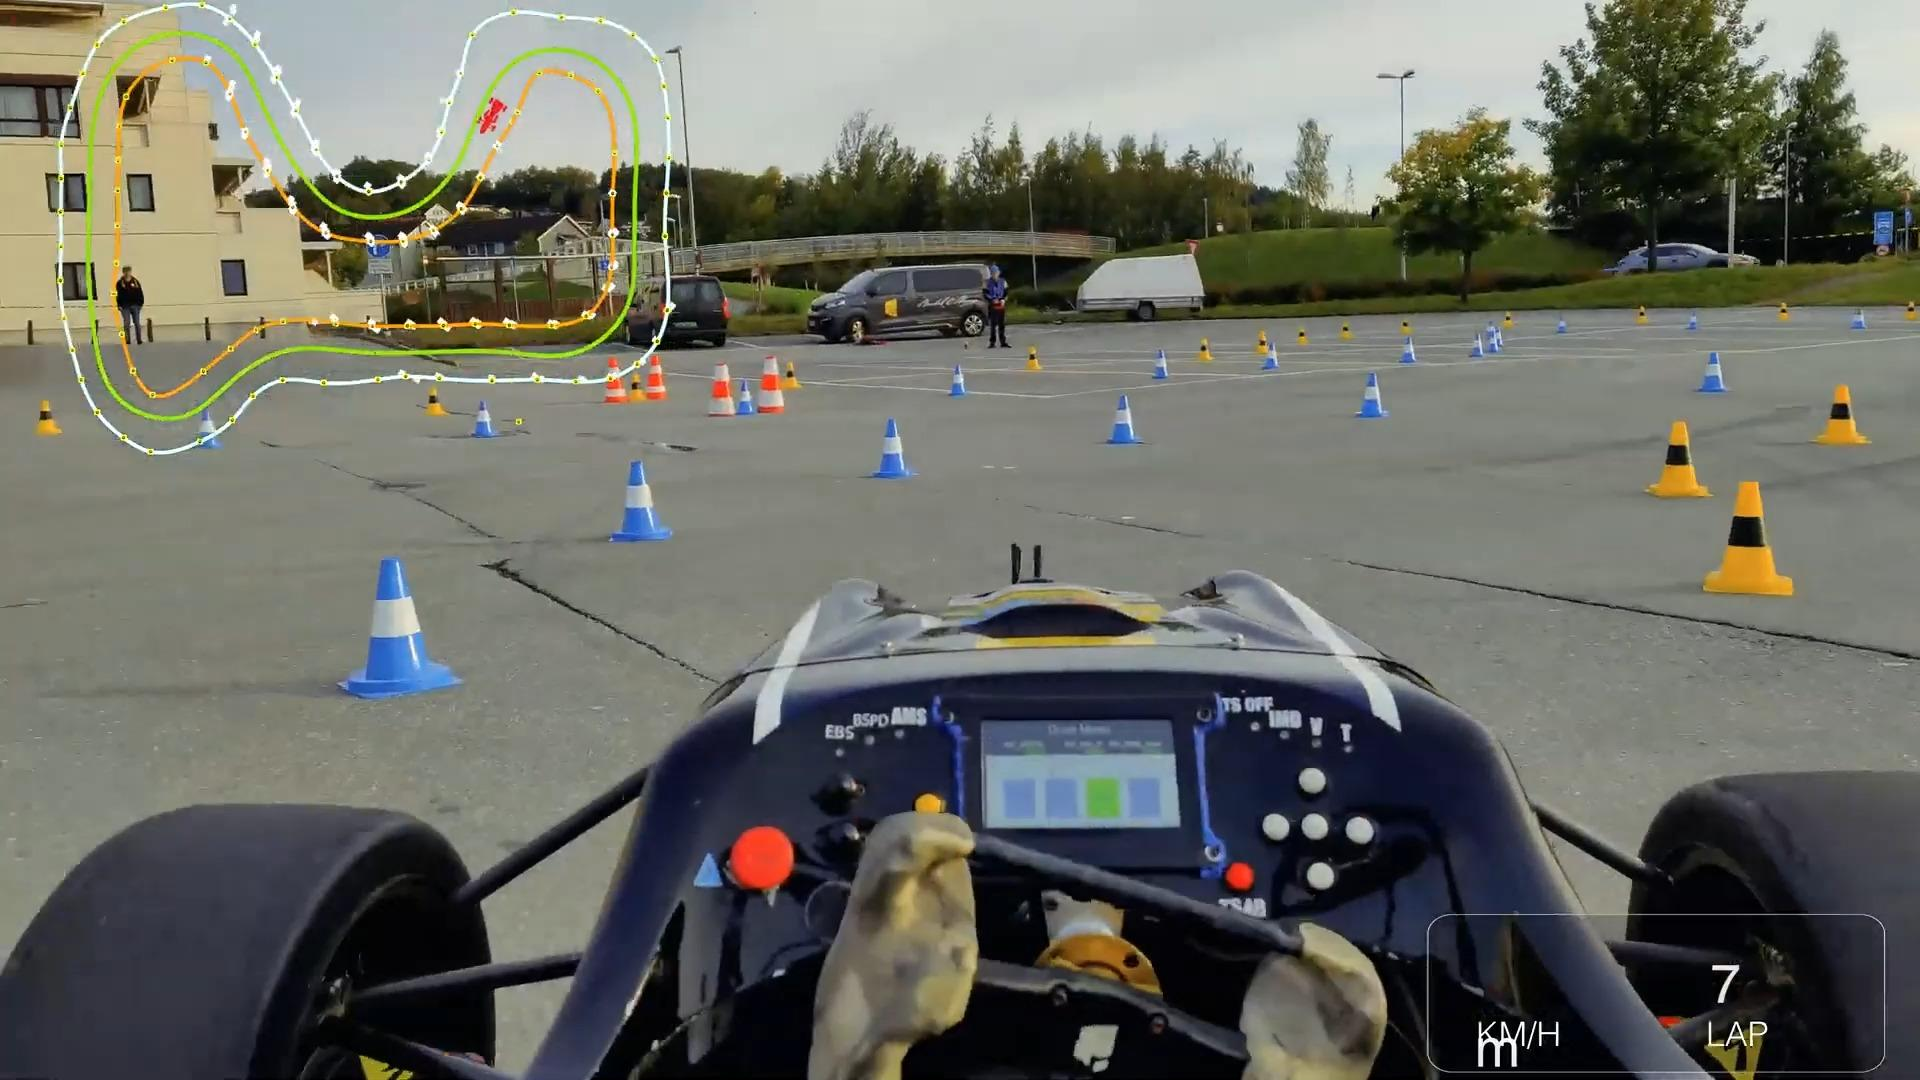blue_cone: (348, 555, 463, 700), (611, 459, 671, 543), (866, 418, 918, 481), (1105, 392, 1147, 448), (1353, 368, 1390, 422), (193, 409, 225, 454), (1696, 353, 1729, 394), (471, 398, 497, 442), (735, 378, 756, 418), (945, 364, 969, 398), (1261, 340, 1282, 372), (1153, 348, 1170, 384), (1399, 332, 1416, 365), (1468, 330, 1485, 361)
large_orange_cone: (758, 355, 787, 413), (704, 360, 732, 417), (647, 352, 669, 402)
yellow_cone: (1704, 480, 1796, 597), (1647, 415, 1709, 502), (1812, 381, 1869, 447), (603, 355, 628, 402), (36, 400, 62, 436), (423, 384, 447, 421), (628, 371, 649, 405), (783, 361, 804, 390), (1023, 345, 1044, 373)
